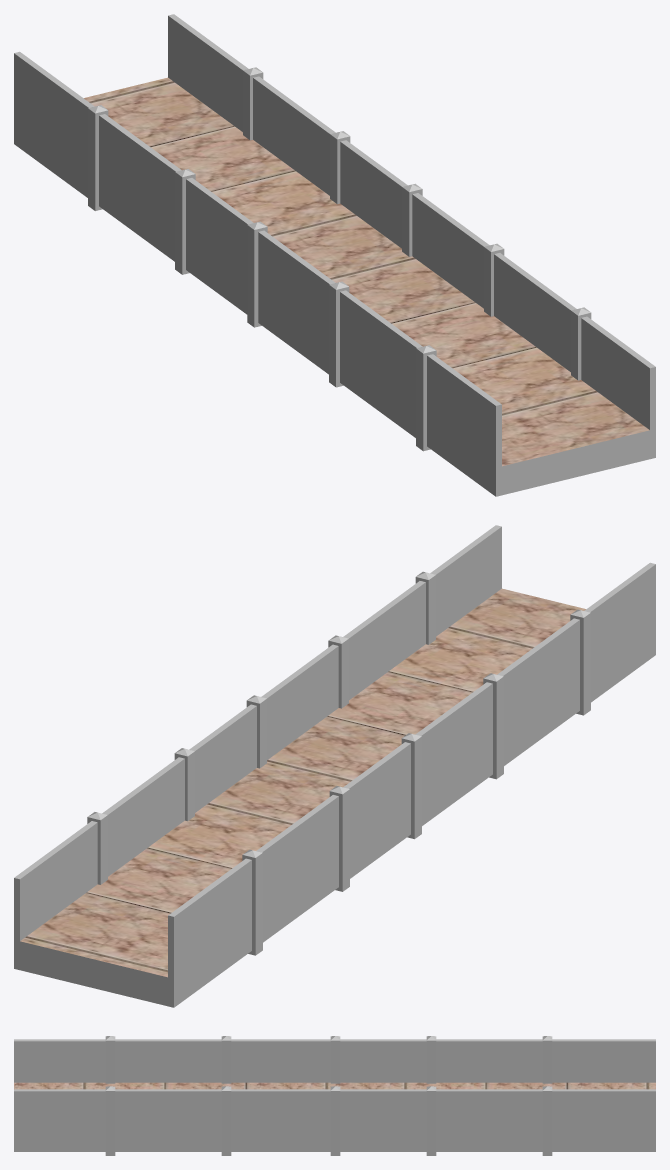
File: footbridge02.fbx
3 renders of one model, top to bottom at view 1: azimuth 30°, elevation 25°; view 2: azimuth 150°, elevation 25°; view 3: azimuth 270°, elevation 25°, orthographic. The views are drawn at different scales.
Visible parts, largest first — view 1: footbridge02; view 2: footbridge02; view 3: footbridge02.
Boxes of the visible parts, x1,y1,x2,y2 form: footbridge02: [14, 14, 655, 496]; footbridge02: [14, 525, 655, 1007]; footbridge02: [14, 1036, 655, 1155].
Bounding box in the file's own units: 3.45 × 1.98 × 17.13.
